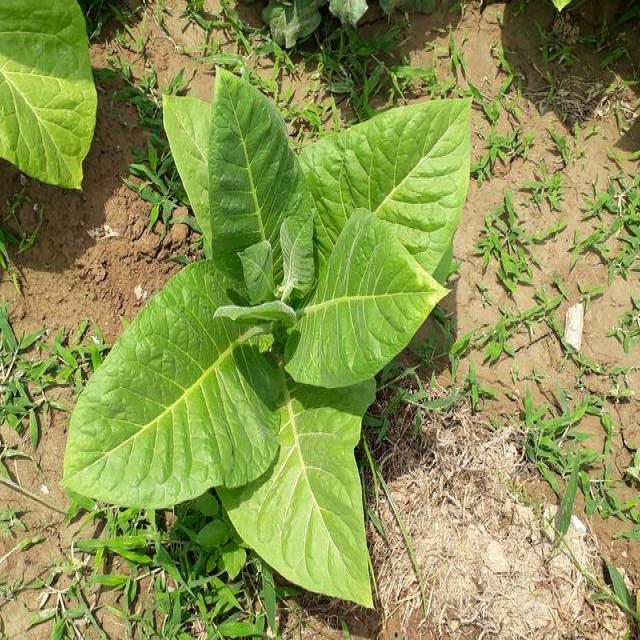crop: (62, 60, 472, 616)
